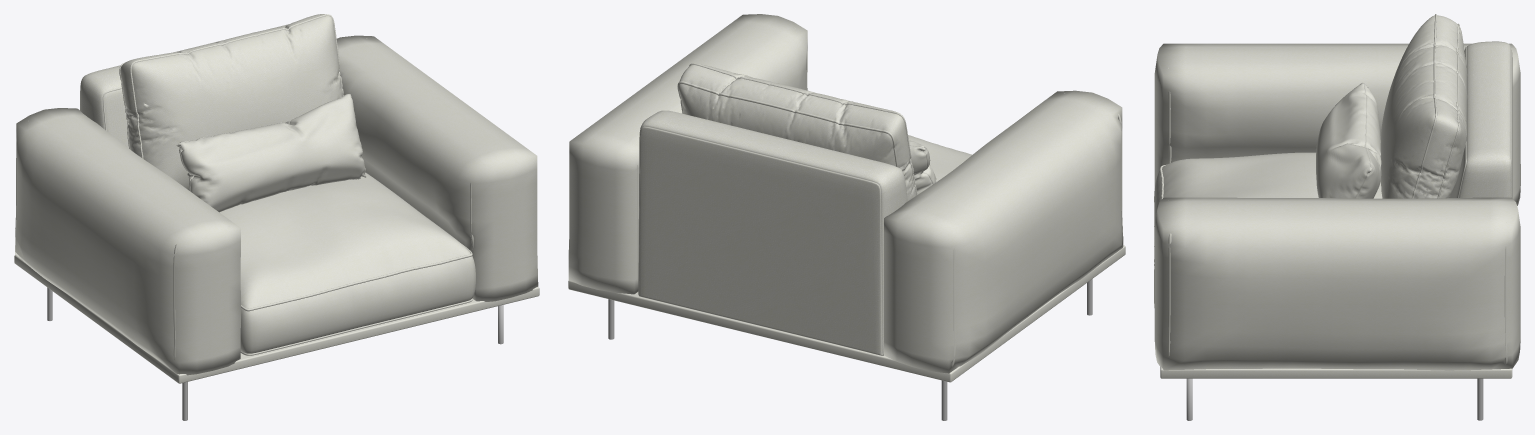
File: double_arm_1.glb
3 views of the same model, side by side, from view 1: azimuth 30°, elevation 25°; view 2: azimuth 150°, elevation 25°; view 3: azimuth 270°, elevation 25° (orthographic). The views are drawn at different scales.
Visible parts, largest first — view 1: Armrest.005, Seating cushion .005, Armrest.002, pillow.015, pillow.014, prop.004, pillow.013, Leg.005; view 2: pillow.013, Armrest.005, Armrest.002, pillow.015, prop.004, Seating cushion .005, pillow.014, Leg.005; view 3: Armrest.002, Armrest.005, pillow.015, pillow.013, Seating cushion .005, pillow.014, prop.004, Leg.005.
Boxes of the visible parts, left/top/right/bottom form: Armrest.005: left=15, top=108, right=240, bottom=375; Seating cushion .005: left=219, top=172, right=475, bottom=355; Armrest.002: left=336, top=35, right=538, bottom=301; pillow.015: left=119, top=14, right=343, bottom=190; pillow.014: left=176, top=94, right=366, bottom=212; prop.004: left=14, top=254, right=539, bottom=383; pillow.013: left=80, top=24, right=286, bottom=148; Leg.005: left=47, top=287, right=503, bottom=420; pillow.013: left=638, top=110, right=907, bottom=355; Armrest.005: left=884, top=90, right=1123, bottom=373; Armrest.002: left=568, top=14, right=807, bottom=294; pillow.015: left=677, top=63, right=917, bottom=200; prop.004: left=568, top=245, right=1125, bottom=382; Seating cushion .005: left=908, top=135, right=972, bottom=181; pillow.014: left=909, top=140, right=936, bottom=194; Leg.005: left=608, top=279, right=1092, bottom=420; Armrest.002: left=1154, top=197, right=1520, bottom=370; Armrest.005: left=1154, top=43, right=1520, bottom=205; pillow.015: left=1380, top=14, right=1467, bottom=198; pillow.013: left=1450, top=41, right=1512, bottom=197; Seating cushion .005: left=1154, top=152, right=1382, bottom=307; pillow.014: left=1316, top=83, right=1381, bottom=198; prop.004: left=1160, top=366, right=1512, bottom=378; Leg.005: left=1186, top=378, right=1483, bottom=420.
Bounding box in the file's own units: 1.22 × 0.7751 × 0.9356.
3 materials, 2 textured.
